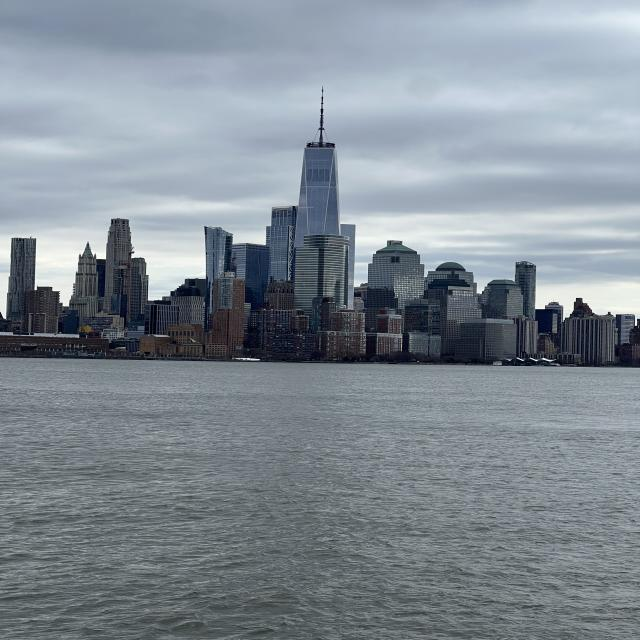WTC: (297, 86, 340, 234)
